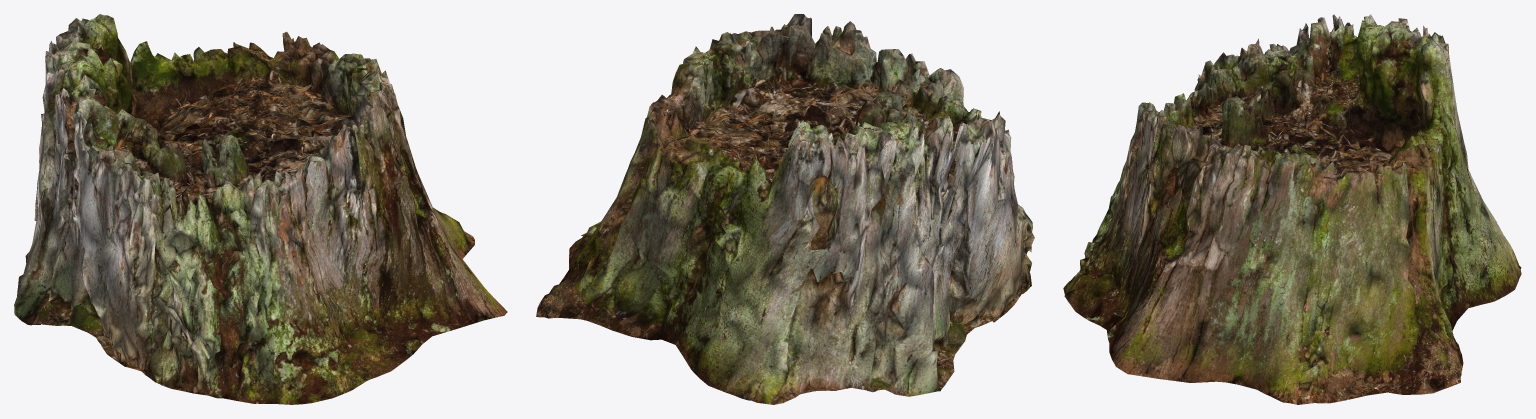
Rendered from stump-mossy.glb.
The picture shows the model from 3 angles, left to right: view 1: azimuth 30°, elevation 25°; view 2: azimuth 150°, elevation 25°; view 3: azimuth 270°, elevation 25°; orthographic projection. The views are drawn at different scales.
Visible parts, largest first — view 1: qdyf7_LOD0_TIER0_000; view 2: qdyf7_LOD0_TIER0_000; view 3: qdyf7_LOD0_TIER0_000.
Part boxes in pixels (bbox=[...]): qdyf7_LOD0_TIER0_000: bbox=[14, 14, 507, 404]; qdyf7_LOD0_TIER0_000: bbox=[536, 14, 1034, 404]; qdyf7_LOD0_TIER0_000: bbox=[1063, 14, 1521, 404].
Size of the model in its own units: 1.68 by 1.03 by 1.73.
Materials: 1 (1 with a texture image).
